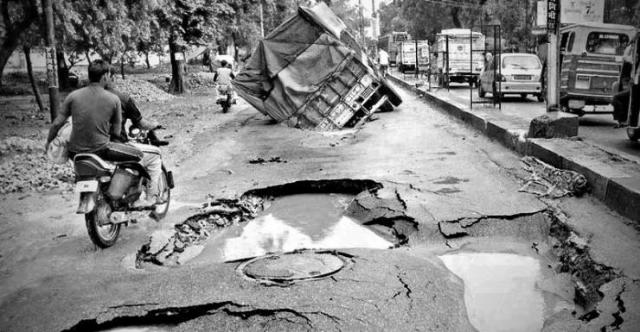Pothole: (134, 160, 428, 281), (407, 187, 620, 332)
